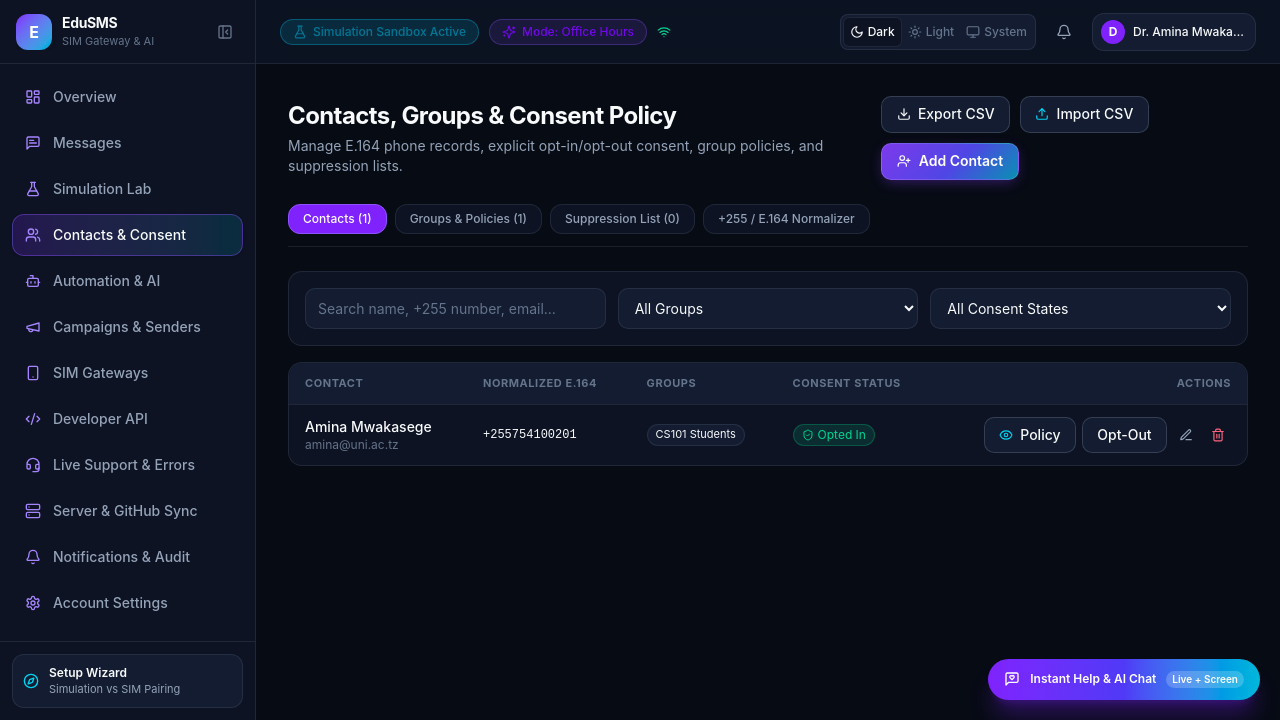
Contacts Management, Mandatory CSV Consent & Effective Policy Preview › enforces mandatory consent checkbox before enabling CSV import and submits consent_confirmed: true
Expected: the text "Amina Mwakasege" is shown, [305,417,432,437]
Expected: the text "+255754100201" is shown, [467,404,631,465]
// Open Import CSV Modal
Click the button "Import CSV" at (1084, 114), box [1020,96,1149,133]
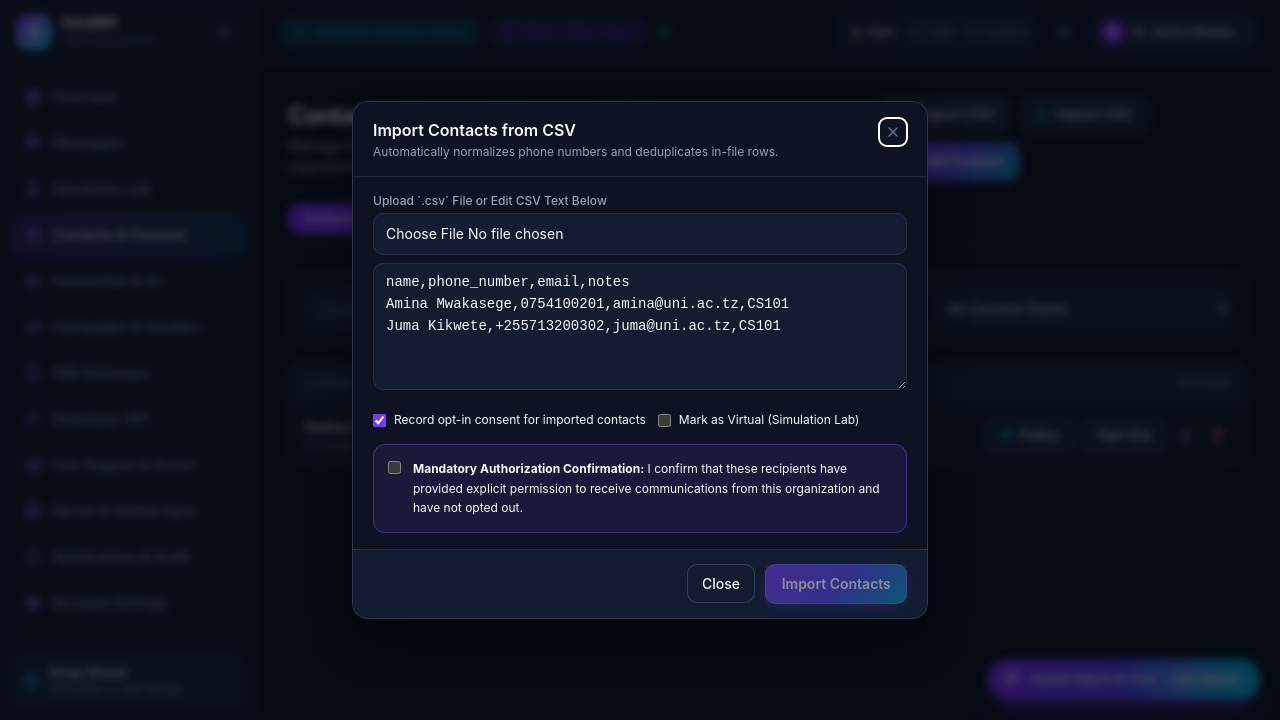
Expected: the dialog is shown, [352,102,928,618]
Expected: the button "Import Contacts" is disabled, [766,564,907,604]
Click the checkbox labelled "Mandatory Authorization Confirmation" at (394, 468), box [388,461,401,474]
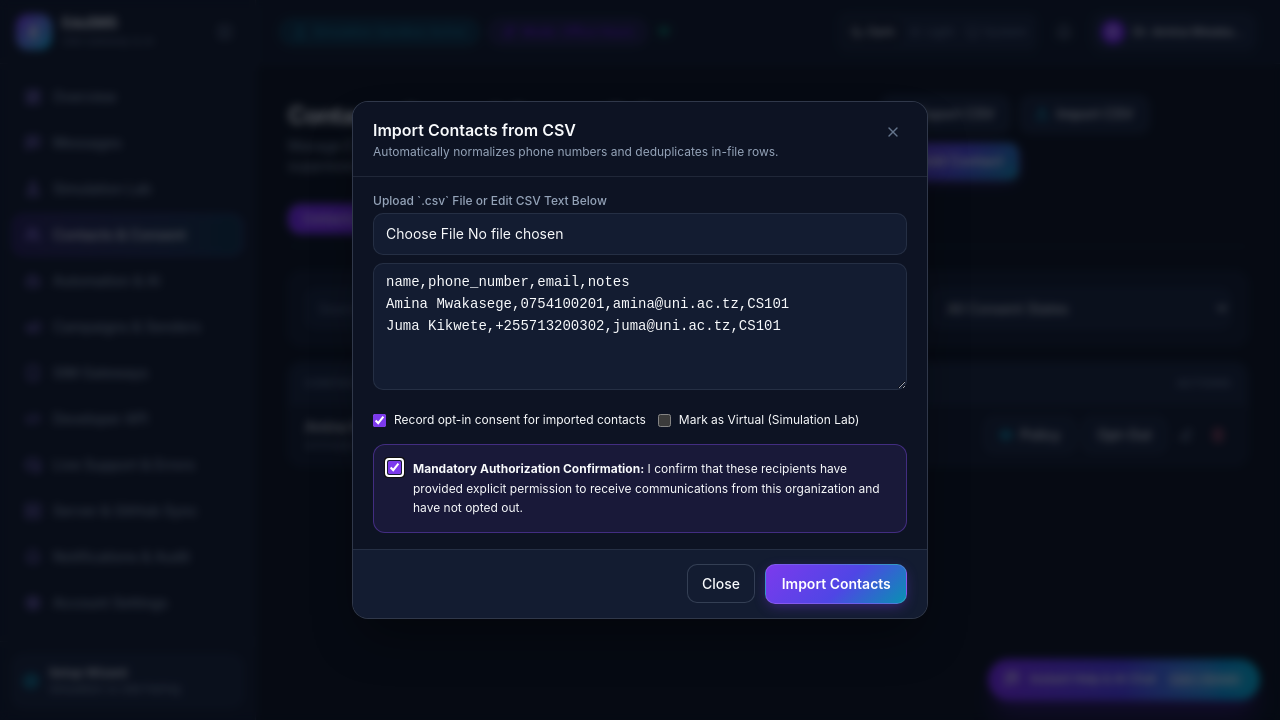
Expected: the button "Import Contacts" is enabled
Click the button "Import Contacts" at (836, 584), box [766,564,907,604]
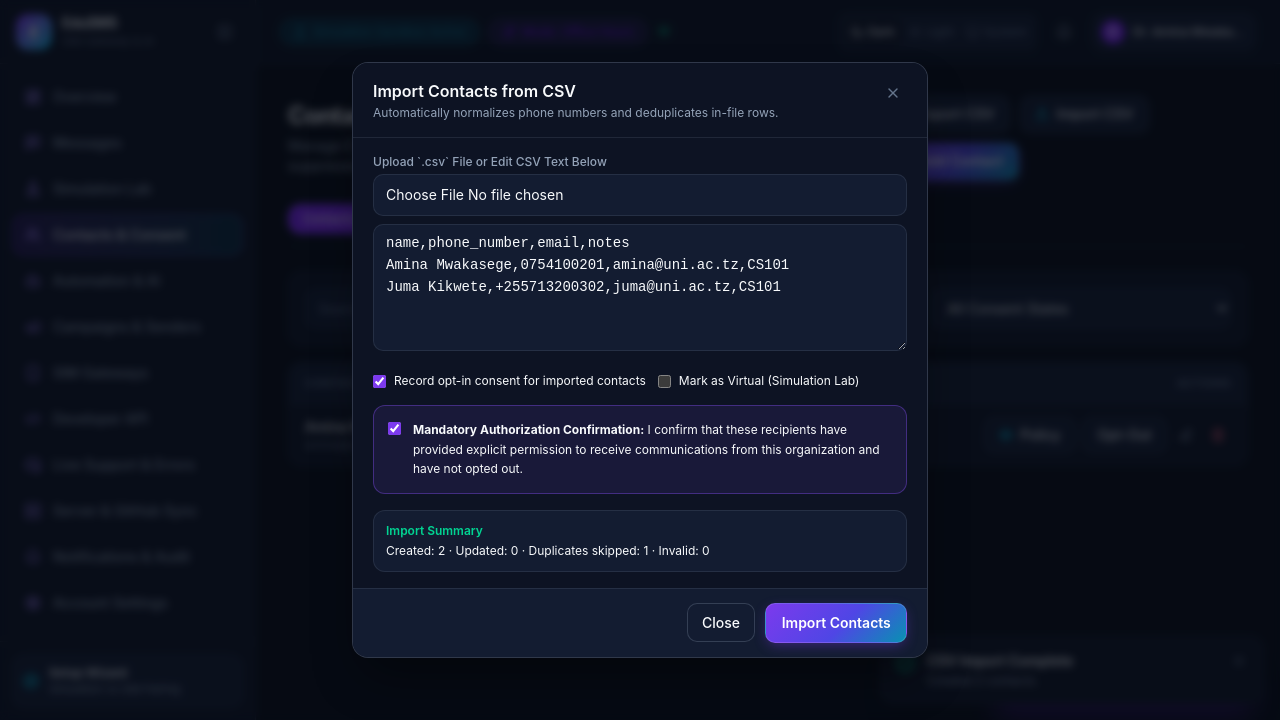
Expected: the text "Import Summary" is shown, [386,523,483,538]
Expected: the text "Created: 2 · Updated: 0 · Duplicates skipped: 1 · Invalid: 0" is shown, [386,543,710,558]
